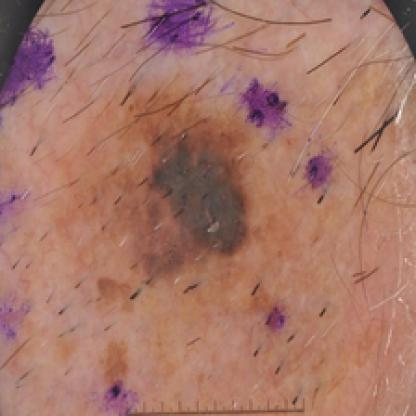malignant: (115, 104, 253, 280)
